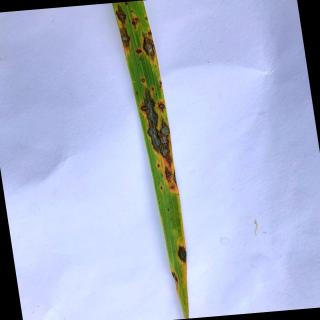Blast: (139, 88, 171, 158), (118, 27, 132, 54), (142, 33, 155, 60), (115, 3, 127, 26), (176, 243, 187, 265), (163, 166, 172, 187), (130, 15, 141, 31), (172, 271, 180, 288), (172, 169, 179, 186), (134, 47, 144, 56), (139, 76, 147, 86), (166, 157, 173, 165), (156, 162, 162, 170), (170, 184, 176, 190), (144, 15, 148, 23), (148, 29, 152, 37), (124, 2, 131, 6), (158, 78, 162, 85), (160, 184, 163, 190), (130, 9, 133, 14)
